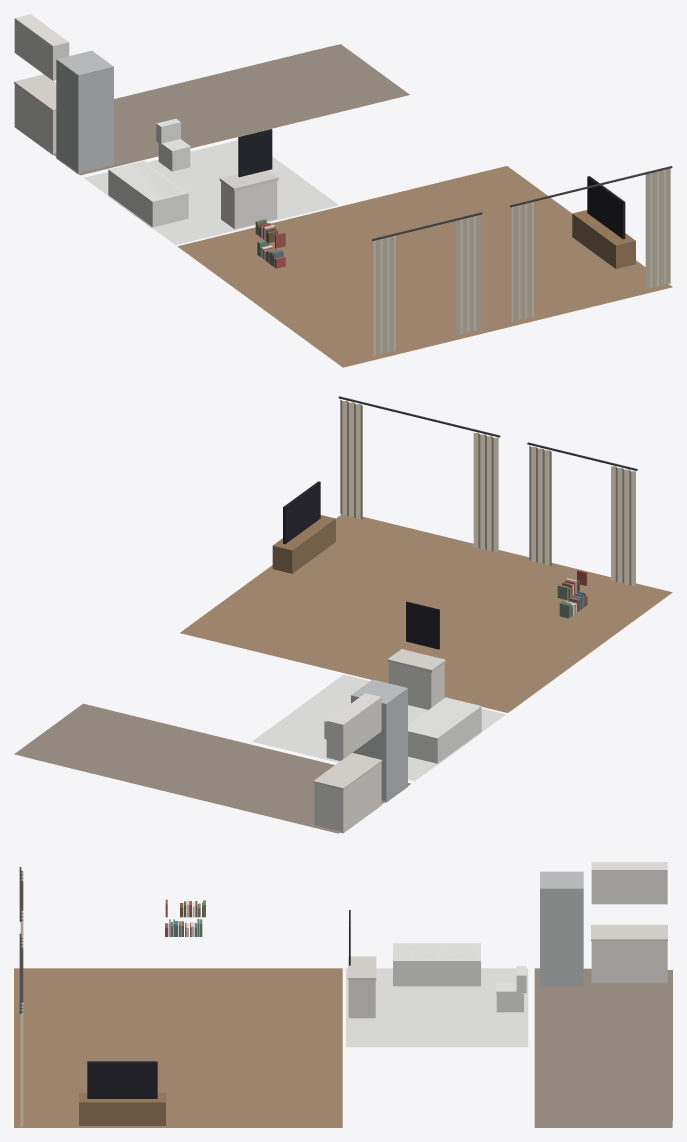
File: fine-s1.glb
3 renders of one model, top to bottom at view 1: azimuth 30°, elevation 25°; view 2: azimuth 150°, elevation 25°; view 3: azimuth 270°, elevation 25°, orthographic.
Visible parts, largest first — view 1: soft-s1, fridge.000, vanity.000, bathtub.000, tv-console.001, counter-run.000, kitchen-upper.000, toilet.000; view 2: soft-s1, counter-run.000, vanity.000, fridge.000, tv-console.001, bathtub.000, kitchen-upper.000; view 3: soft-s1, tv-console.001, fridge.000, counter-run.000, bathtub.000, kitchen-upper.000, vanity.000, toilet.000.
Boxes of the visible parts, left/top/right/bottom form: soft-s1: left=49, top=44, right=672, bottom=367; fridge.000: left=56, top=50, right=113, bottom=174; vanity.000: left=219, top=129, right=278, bottom=229; bathtub.000: left=108, top=160, right=188, bottom=228; tv-console.001: left=572, top=176, right=635, bottom=268; counter-run.000: left=14, top=74, right=56, bottom=155; kitchen-upper.000: left=14, top=14, right=69, bottom=80; toilet.000: left=156, top=118, right=190, bottom=171; soft-s1: left=14, top=396, right=672, bottom=833; counter-run.000: left=313, top=753, right=382, bottom=833; vanity.000: left=387, top=601, right=445, bottom=709; fridge.000: left=351, top=679, right=407, bottom=802; tv-console.001: left=272, top=481, right=335, bottom=573; bathtub.000: left=408, top=697, right=481, bottom=764; kitchen-upper.000: left=327, top=693, right=381, bottom=759; soft-s1: left=14, top=867, right=672, bottom=1127; tv-console.001: left=79, top=1061, right=165, bottom=1125; fridge.000: left=540, top=871, right=583, bottom=985; counter-run.000: left=591, top=924, right=667, bottom=983; bathtub.000: left=393, top=943, right=480, bottom=986; kitchen-upper.000: left=591, top=862, right=667, bottom=904; vanity.000: left=348, top=910, right=376, bottom=1018; toilet.000: left=496, top=966, right=526, bottom=1012.
Bounding box in the file's own units: 7.01 × 2.41 × 12.15.
